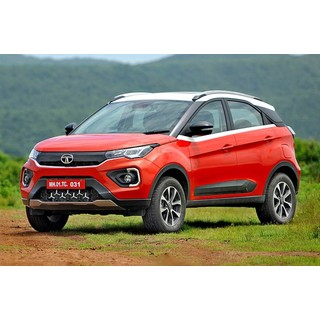car: (19, 90, 301, 234)
